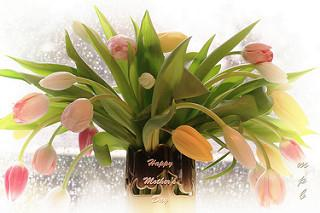tulip: (171, 125, 214, 161), (255, 169, 286, 210), (9, 93, 51, 123), (62, 96, 96, 130), (5, 163, 29, 202), (32, 143, 59, 176), (107, 34, 136, 60), (38, 72, 79, 90), (243, 42, 274, 65), (280, 137, 305, 165)
